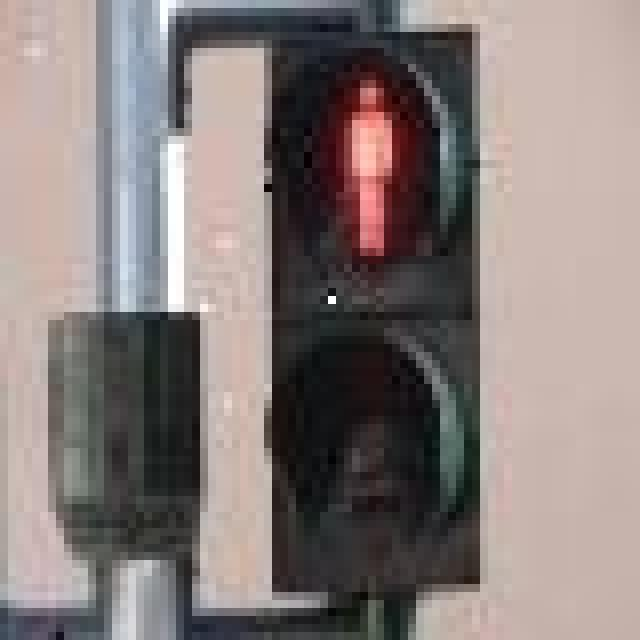redlight: (240, 24, 512, 632)
